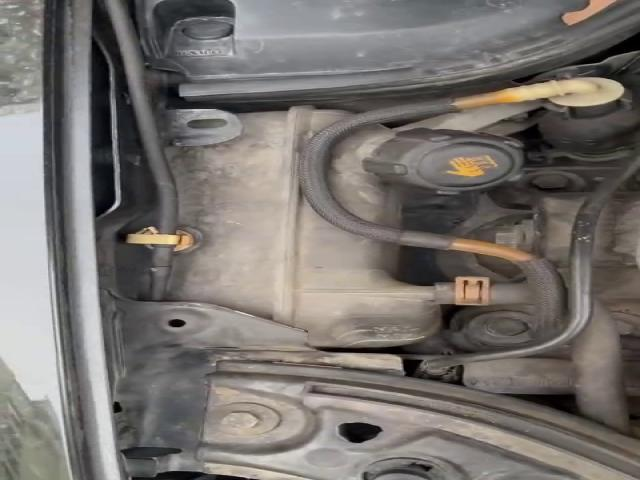antifreeze_tank: (168, 106, 455, 346), (331, 126, 523, 227)
